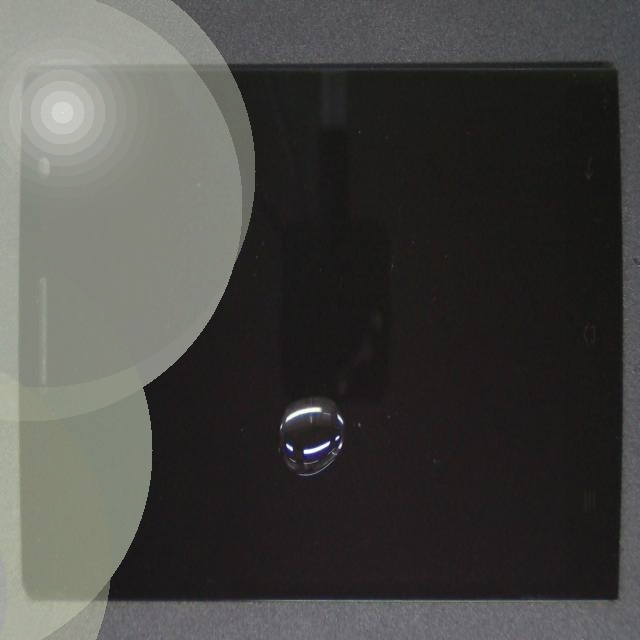oil: (168, 186, 443, 601)
